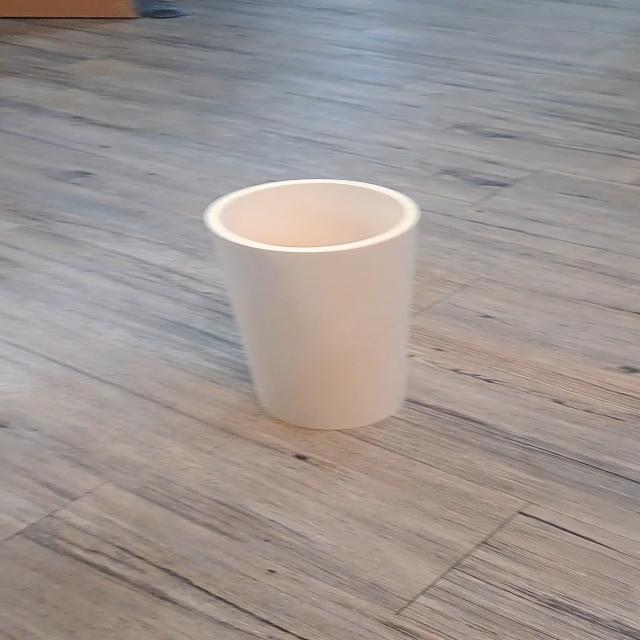CORAL: (149, 149, 459, 446)
